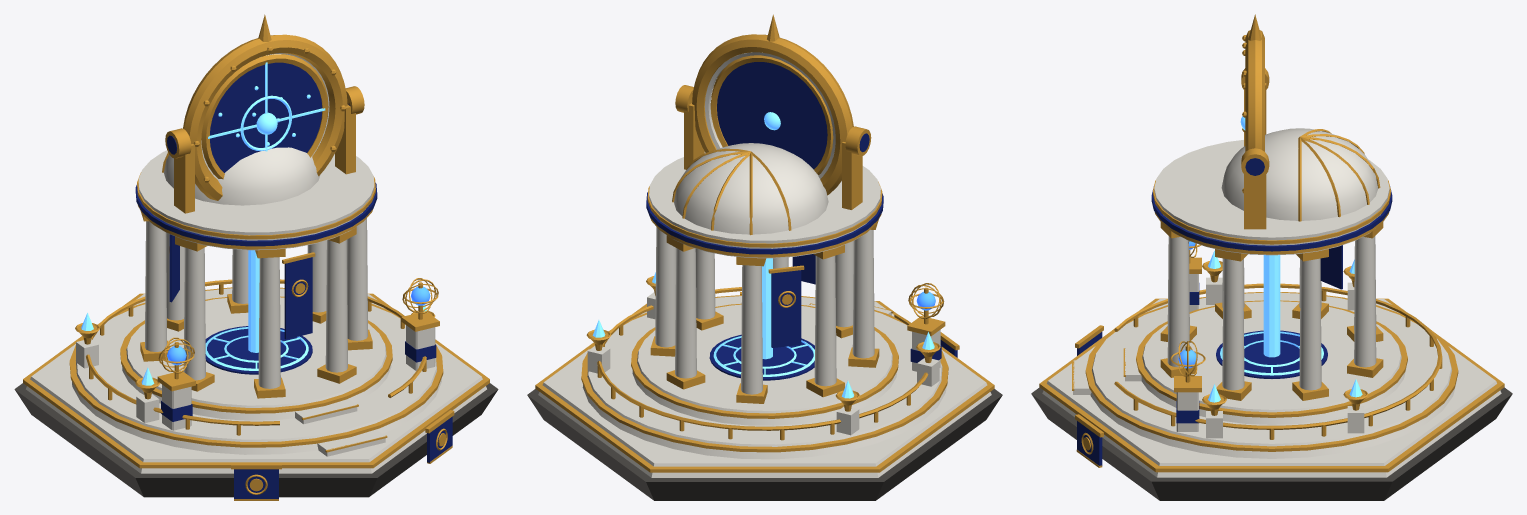
Rendered from zeus_tutor_structure_3.glb.
3 renders of one model, left to right at view 1: azimuth 30°, elevation 25°; view 2: azimuth 150°, elevation 25°; view 3: azimuth 270°, elevation 25°, orthographic.
Visible parts, largest first — view 1: zeus_tutor_structure_3; view 2: zeus_tutor_structure_3; view 3: zeus_tutor_structure_3.
Boxes of the visible parts, x1,y1,x2,y2 form: zeus_tutor_structure_3: (14,14,498,500); zeus_tutor_structure_3: (527,14,1002,500); zeus_tutor_structure_3: (1031,14,1512,500).
Bounding box in the file's own units: 1.49 × 1.6 × 1.72.
1 material, 1 textured.
